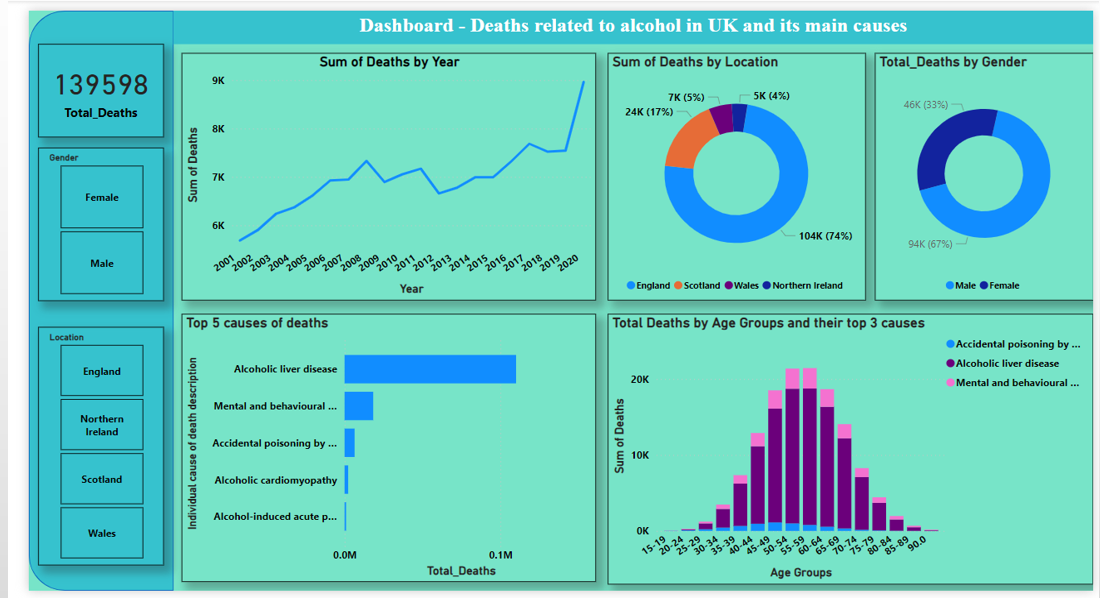

The page's visual inventory and layout, read from the dashboard file:
{"tool":"powerbi","page":{"name":"Final_Report","canvas":[1280,720],"ordinal":1},"visuals":[{"type":"shape","box":[0,0,174.3,720],"z":0},{"type":"textbox","box":[173.8,0,1106.2,41.2],"z":1000},{"type":"card","fields":{"Values":["Alcoholregions.Total_Deaths"]},"box":[11.4,41.4,151.4,115.7],"z":2000},{"type":"slicer","fields":{"Values":["Alcoholregions.Gender"]},"box":[11.4,170,151.4,190],"z":3000},{"type":"slicer","fields":{"Values":["Alcoholregions.Location"]},"box":[11.4,392.9,151.4,295.7],"z":4000},{"type":"lineChart","fields":{"Y":["Sum(Alcoholregions.Deaths)"],"Category":["Alcoholregions.Year"]},"box":[184.3,52.9,498.6,307.1],"z":5000},{"type":"donutChart","fields":{"Category":["Alcoholregions.Location"],"Y":["Sum(Alcoholregions.Deaths)"]},"box":[695.7,52.9,310,307.1],"z":6000},{"type":"pieChart","fields":{"Y":["Alcoholregions.Total_Deaths"],"Category":["Alcoholregions.Gender"]},"box":[1017.1,52.9,262.9,307.1],"z":7000},{"type":"clusteredBarChart","title":"Top 5 causes of deaths","fields":{"Category":["Alcoholregions.Individual cause of death description"],"Y":["Alcoholregions.Total_Deaths"]},"box":[184.3,375.7,498.6,332.9],"z":8000},{"type":"columnChart","title":"Total Deaths by Age Groups and their top 3 causes","fields":{"Category":["Alcoholregions.Age Groups"],"Y":["Sum(Alcoholregions.Deaths)"],"Series":["Alcoholregions.Individual cause of death description"]},"box":[695.7,375.7,584.3,335.7],"z":9000}]}

Visuals, with their boxes in screenshot pixels (x1, y1, x2, y2):
shape: 34, 6, 177, 596
textbox: 177, 6, 1084, 40
card - Alcoholregions.Total_Deaths: 44, 40, 168, 135
slicer - Alcoholregions.Gender: 44, 145, 168, 301
slicer - Alcoholregions.Location: 44, 328, 168, 570
lineChart - Sum(Alcoholregions.Deaths) x Alcoholregions.Year: 186, 49, 594, 301
donutChart - Alcoholregions.Location x Sum(Alcoholregions.Deaths): 605, 49, 859, 301
pieChart - Alcoholregions.Total_Deaths x Alcoholregions.Gender: 868, 49, 1084, 301
"Top 5 causes of deaths" clusteredBarChart: 186, 314, 594, 587
"Total Deaths by Age Groups and their top 3 causes" columnChart: 605, 314, 1084, 589
